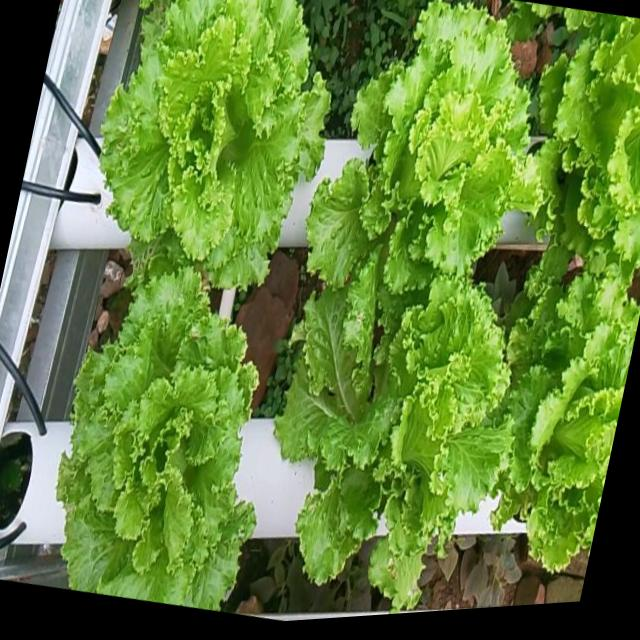Mature: (278, 280, 519, 608), (58, 245, 263, 610), (312, 0, 545, 310), (105, 0, 339, 277), (498, 274, 640, 578), (547, 14, 640, 284)
